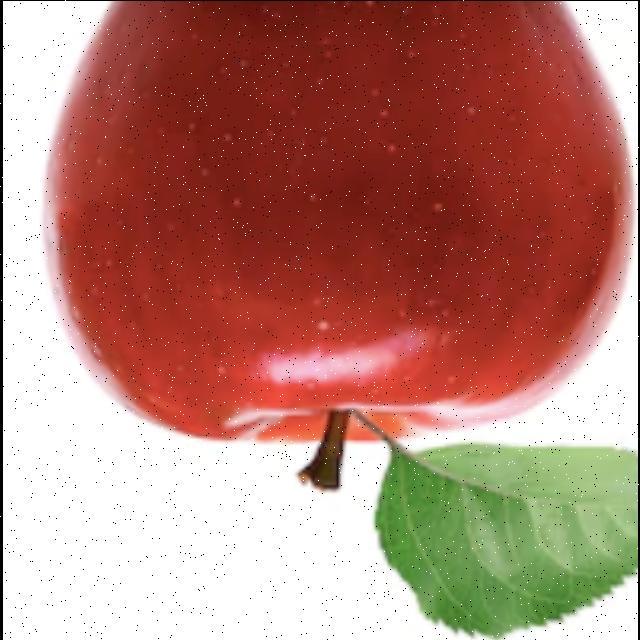Apel Segar: (27, 0, 638, 484)
